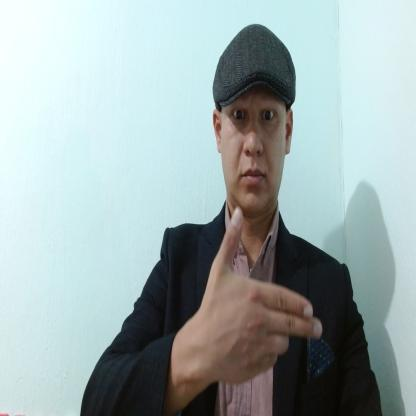H: (198, 207, 323, 384)
